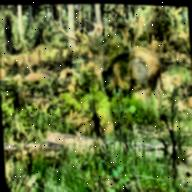boar: (95, 40, 172, 104)
